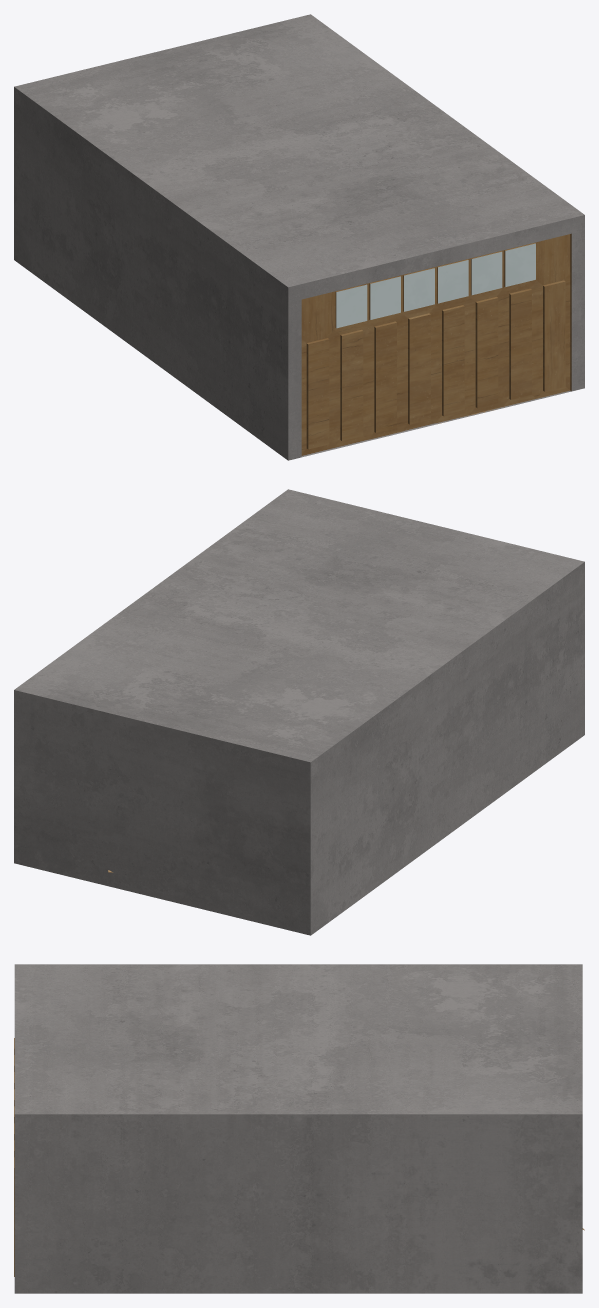
The model's file is LobbyRoom.fbx.
3 views of the same model, one above another, from view 1: azimuth 30°, elevation 25°; view 2: azimuth 150°, elevation 25°; view 3: azimuth 270°, elevation 25° (orthographic). The views are drawn at different scales.
Parts seen in each view (by area): view 1: Plane.001, Plane.005, Plane.006; view 2: Plane.005, Plane.001; view 3: Plane.005, Plane.001.
Boxes of the visible parts, x1=… form: Plane.001: x1=14, y1=14, x2=584, y2=287; Plane.005: x1=14, y1=87, x2=584, y2=460; Plane.006: x1=301, y1=233, x2=571, y2=455; Plane.005: x1=14, y1=562, x2=584, y2=935; Plane.001: x1=14, y1=489, x2=584, y2=762; Plane.005: x1=14, y1=1114, x2=582, y2=1293; Plane.001: x1=14, y1=964, x2=582, y2=1114.
Size of the model in its own units: 500 by 279 by 804.
